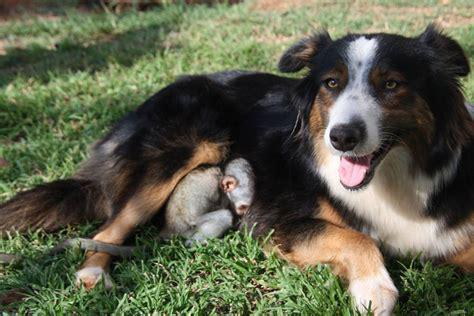dog: (1, 27, 474, 316)
monkey: (65, 158, 255, 258)
